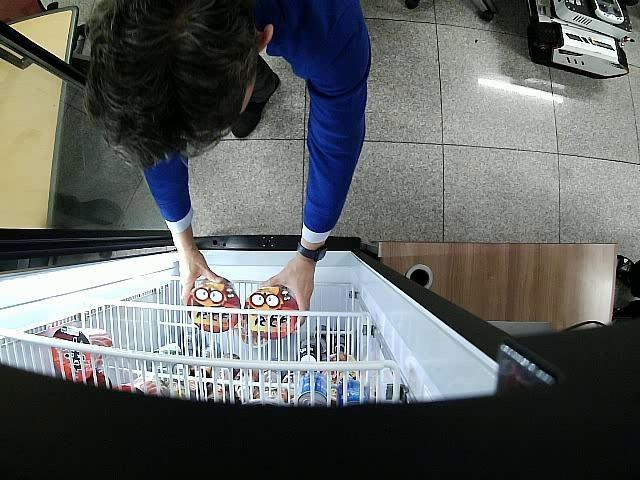05_nuguri_L: (244, 285, 299, 340), (187, 278, 241, 333)
